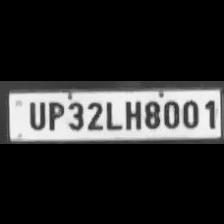0: (160, 96, 180, 128), (179, 96, 199, 128)
1: (201, 97, 219, 129)
2: (84, 98, 104, 130)
3: (64, 98, 84, 130)
8: (142, 97, 160, 129)
H: (121, 97, 141, 129)
L: (103, 98, 121, 130)
P: (44, 97, 64, 130)
U: (24, 98, 46, 130)
